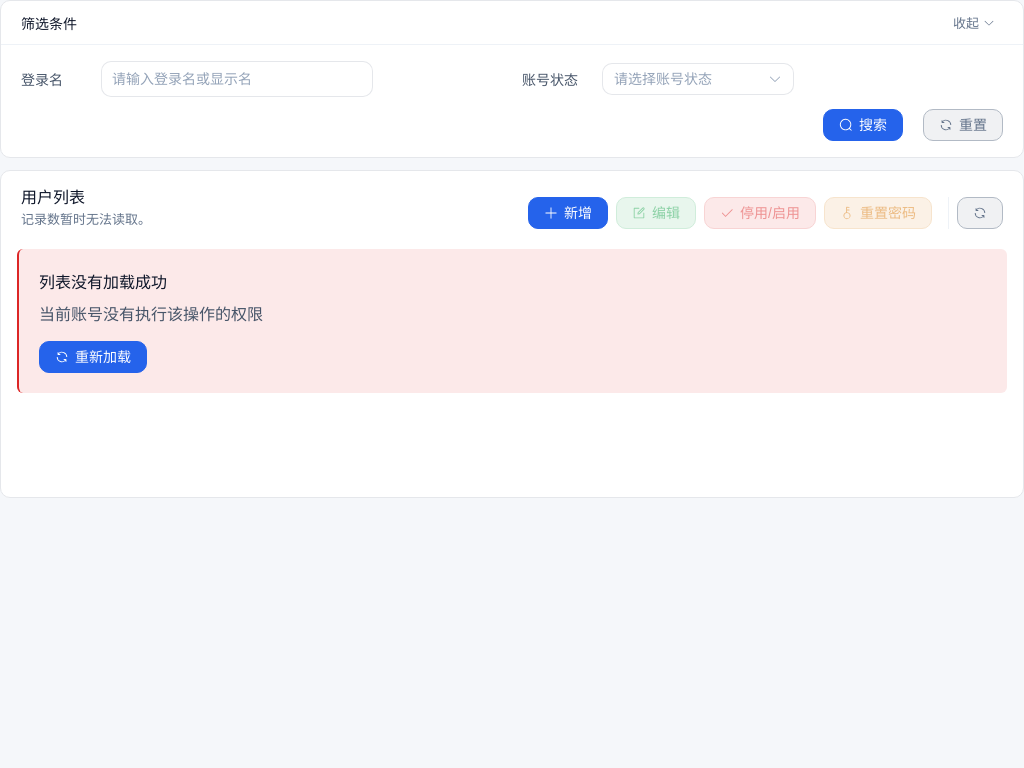
Test: UserListView › 加载失败时给出稳定错误码文案，并可原位重试
The image size is (1024, 768).
Check: the message "列表没有加载成功 当前账号没有执行该操作的权限 重新加载" is shown, box [17,249,1007,393]
Click the button "重新加载" at (93, 357), box [39,341,147,373]
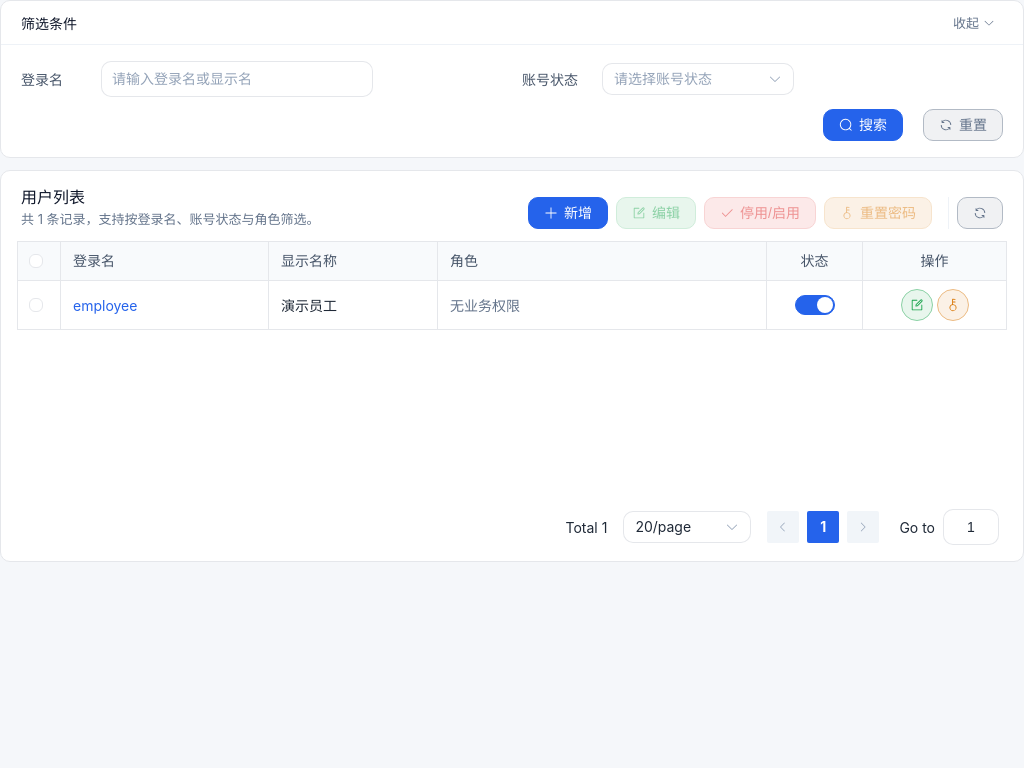
Check: the text "演示员工" is shown, box [281,297,337,314]
